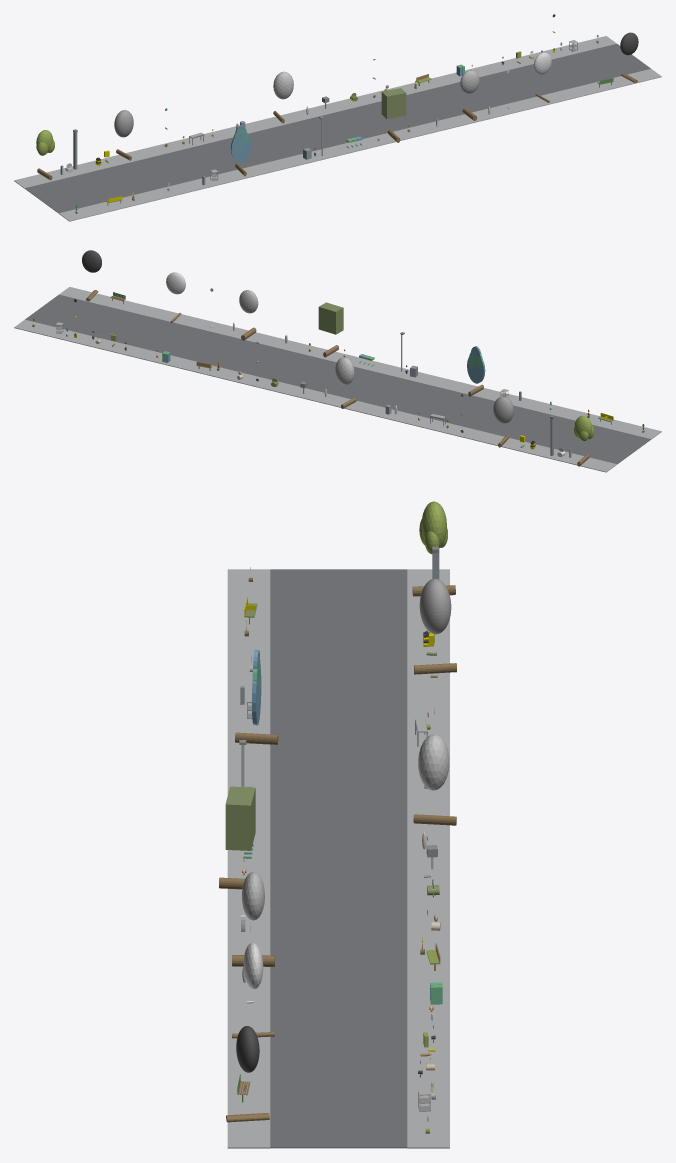
3 views of the same model, one above another, from view 1: azimuth 30°, elevation 25°; view 2: azimuth 150°, elevation 25°; view 3: azimuth 270°, elevation 25° (orthographic). The views are drawn at different scales.
Parts seen in each view (by area): view 1: road_slab, sidewalk_left, sidewalk_right, inst_0022, inst_0020, inst_0021, inst_0019, inst_0018, inst_0023, inst_0025, inst_0024; view 2: road_slab, sidewalk_right, sidewalk_left, inst_0022, inst_0020, inst_0019, inst_0021, inst_0018, inst_0023, inst_0025, inst_0024; view 3: road_slab, sidewalk_right, sidewalk_left, inst_0022, inst_0021, inst_0019, inst_0018, inst_0025, inst_0023, inst_0020.
Boxes of the visible parts, x1,y1,x2,y2 form: road_slab: [25, 44, 650, 213]; sidewalk_left: [59, 69, 661, 221]; sidewalk_right: [14, 36, 616, 188]; inst_0022: [381, 88, 406, 142]; inst_0020: [230, 125, 251, 176]; inst_0021: [273, 71, 293, 123]; inst_0019: [114, 110, 133, 160]; inst_0018: [36, 130, 54, 180]; inst_0023: [460, 70, 479, 120]; inst_0025: [620, 32, 638, 83]; inst_0024: [533, 52, 551, 102]; road_slab: [25, 294, 651, 464]; sidewalk_right: [14, 319, 616, 472]; sidewalk_left: [59, 287, 661, 439]; inst_0022: [318, 302, 343, 357]; inst_0020: [467, 346, 485, 396]; inst_0019: [493, 396, 513, 447]; inst_0021: [335, 357, 356, 408]; inst_0018: [574, 415, 594, 466]; inst_0023: [239, 290, 258, 340]; inst_0025: [82, 250, 101, 301]; inst_0024: [166, 272, 185, 322]; road_slab: [270, 569, 407, 1148]; sidewalk_right: [407, 569, 449, 1148]; sidewalk_left: [227, 569, 270, 1148]; inst_0022: [219, 786, 255, 889]; inst_0021: [413, 734, 456, 825]; inst_0019: [414, 578, 456, 674]; inst_0018: [412, 501, 455, 596]; inst_0025: [226, 1026, 269, 1122]; inst_0023: [232, 871, 274, 966]; inst_0020: [235, 650, 278, 744].
Bounding box in the file's own units: 80 × 6.08 × 13.94.
